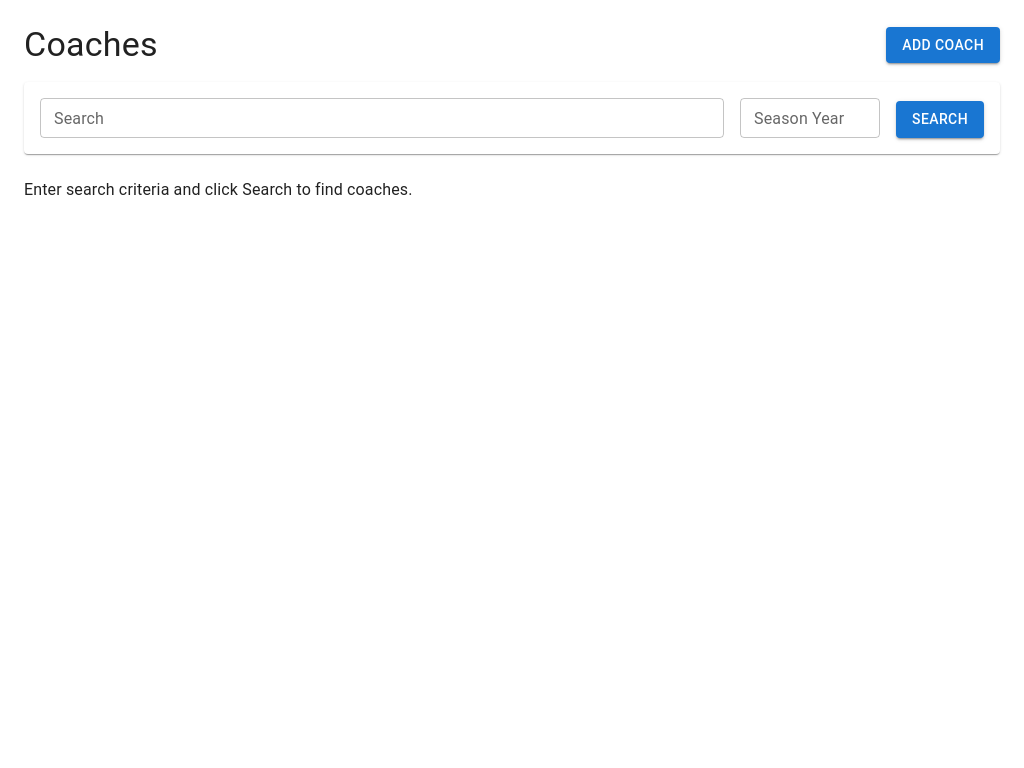
Scenario: Coaches Page › Add Coach › should open dialog when Add Coach is clicked
Click the button "Add Coach" at (943, 45), box [886,27,1000,63]
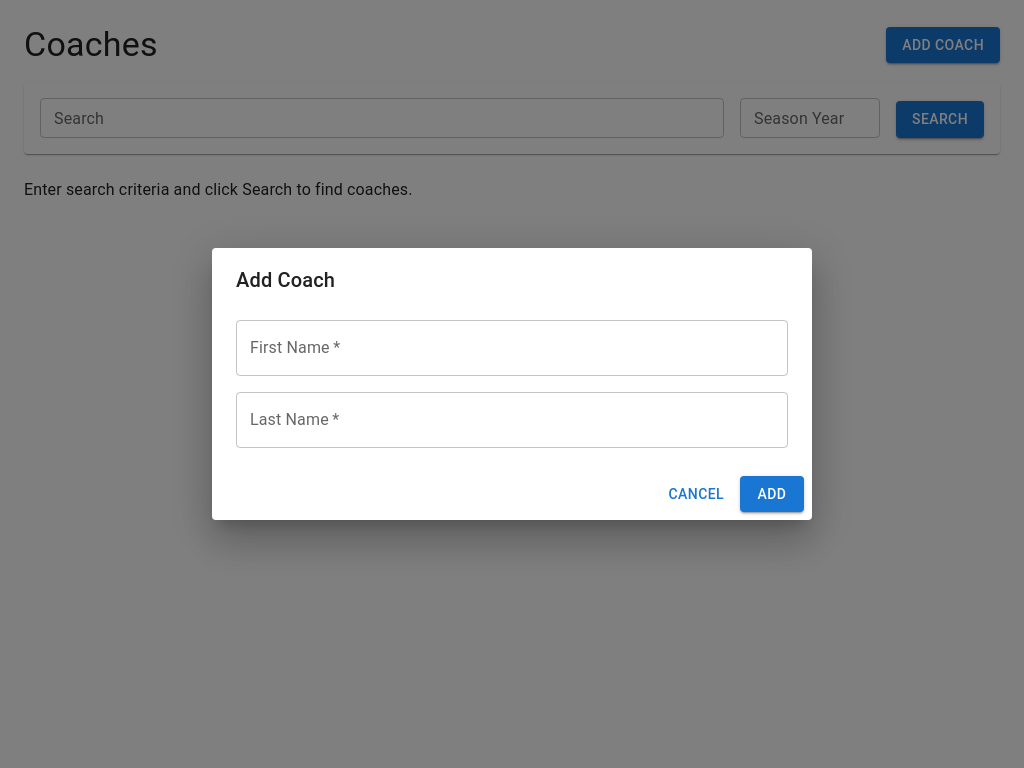
Expected: the dialog is shown, [212,248,812,520]
Expected: the field labelled "First Name *" is shown, [236,320,788,376]
Expected: the field labelled "Last Name *" is shown, [236,392,788,448]
